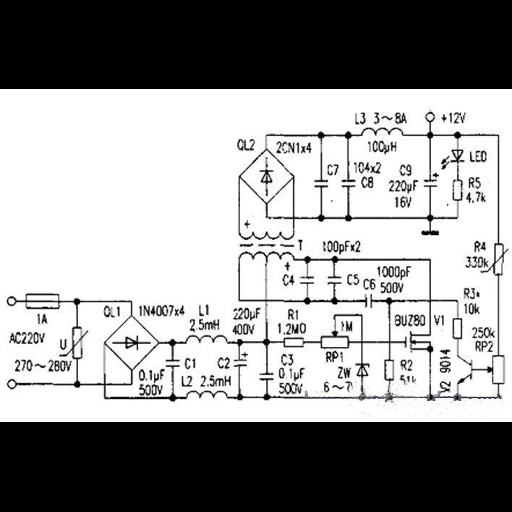capacitor: (296, 272, 319, 289), (164, 355, 182, 371), (340, 176, 357, 192), (312, 176, 330, 191), (257, 370, 276, 384), (324, 274, 343, 288), (362, 291, 376, 309)
firstpolarcapacitor: (422, 170, 441, 190), (232, 351, 250, 370)
firstresistance: (383, 355, 397, 386), (450, 314, 464, 343), (279, 335, 307, 348), (451, 178, 464, 203)
fuse: (20, 291, 66, 312)
inductor: (355, 125, 409, 139), (184, 389, 233, 404), (182, 332, 230, 347)
mos: (402, 330, 420, 352)
npn: (453, 351, 480, 389)
secondled: (440, 146, 467, 172)
transformer: (234, 227, 297, 263)
